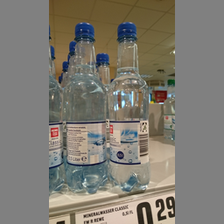water: (103, 20, 150, 196), (62, 21, 106, 194)
